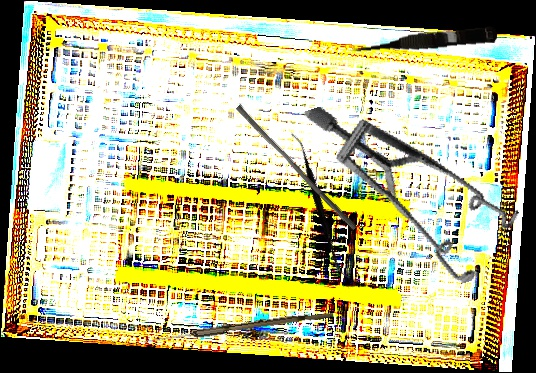Micro Scissor: (348, 23, 498, 58)
Pusher: (231, 104, 362, 231)
Spatula Surgical: (242, 132, 399, 280)
Speculum: (303, 56, 535, 315)
Surgical Spoon: (143, 308, 334, 347)
